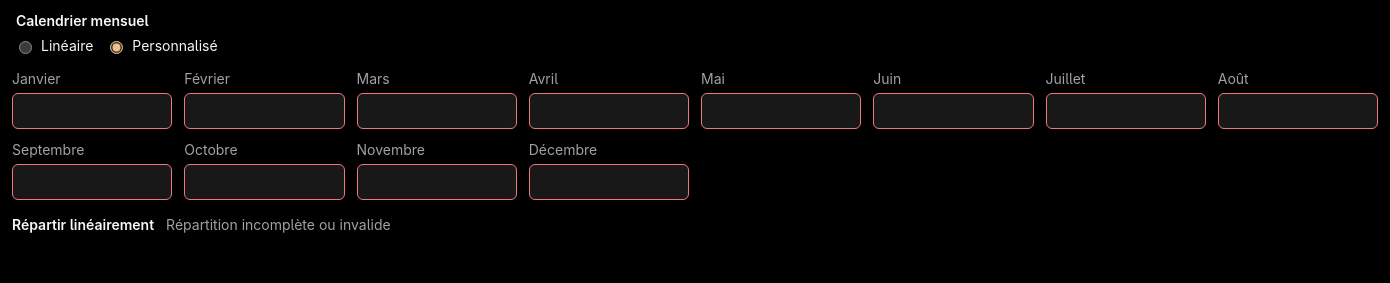
Test case: GoalScheduleEditor › clears the pending preview state and announces a rejected preview
The width and height of the screenshot is (1390, 283).
Step 1. Click the button "Répartir linéairement" → {"x": 83, "y": 224}, box [12,216,154,233]
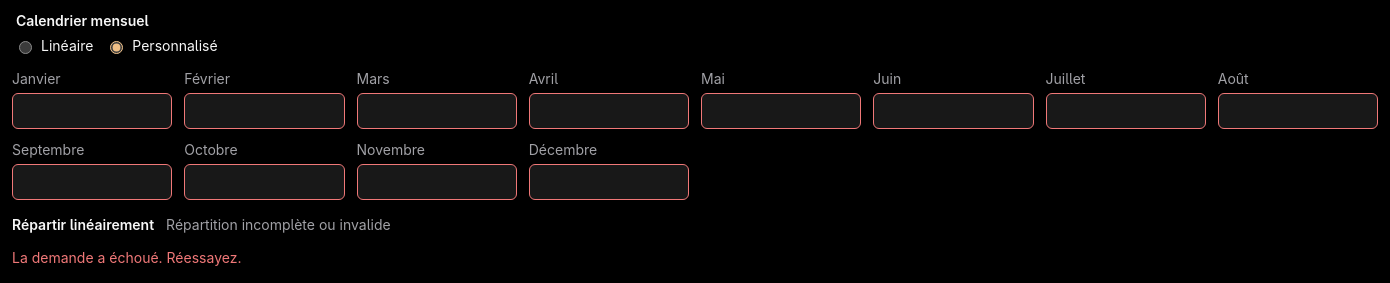
Check: the message "La demande a échoué. Réessayez." is shown, box [12,249,242,266]
